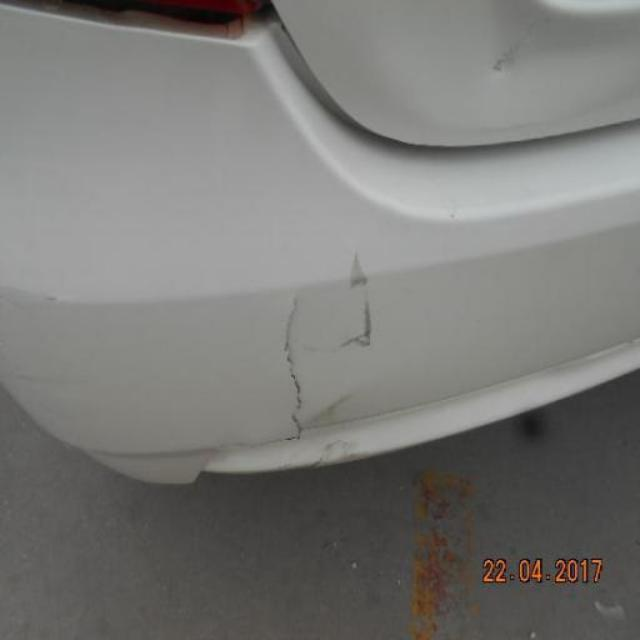crack: (280, 288, 315, 436), (344, 250, 378, 357)
scratch: (301, 388, 371, 468), (488, 21, 538, 79)
